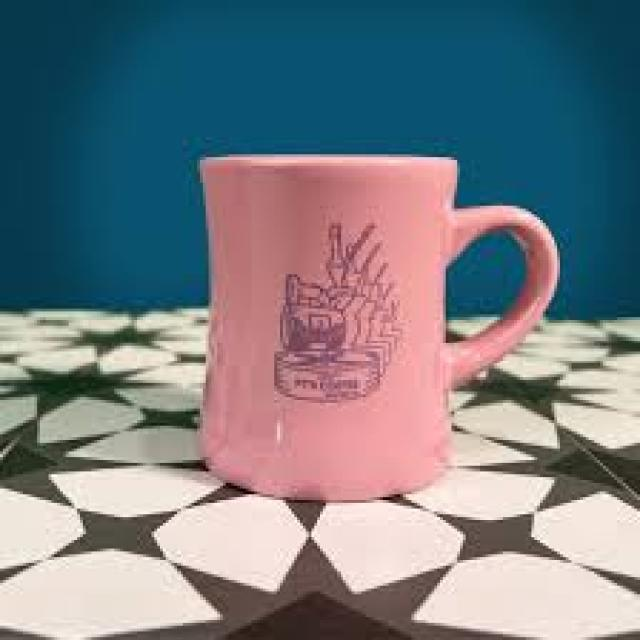taza: (200, 151, 560, 503)
